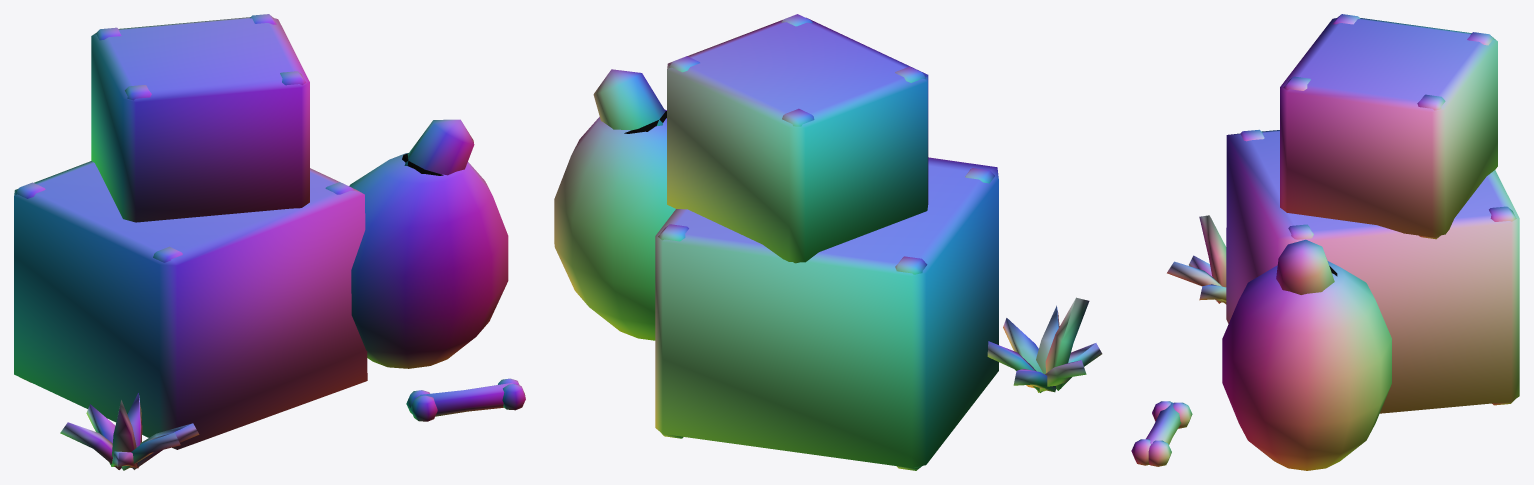
The model's file is SM_Prop_Goblin_Crates.fbx.
The picture shows the model from 3 angles, left to right: view 1: azimuth 30°, elevation 25°; view 2: azimuth 150°, elevation 25°; view 3: azimuth 270°, elevation 25°; orthographic projection. The views are drawn at different scales.
Visible parts, largest first — view 1: SM_Prop_Goblin_Crates; view 2: SM_Prop_Goblin_Crates; view 3: SM_Prop_Goblin_Crates.
Part boxes in pixels (bbox=[...]): SM_Prop_Goblin_Crates: bbox=[14, 14, 525, 470]; SM_Prop_Goblin_Crates: bbox=[554, 14, 1102, 470]; SM_Prop_Goblin_Crates: bbox=[1131, 14, 1519, 470].
Bounding box in the file's own units: 1.3 × 0.8543 × 0.9487.
